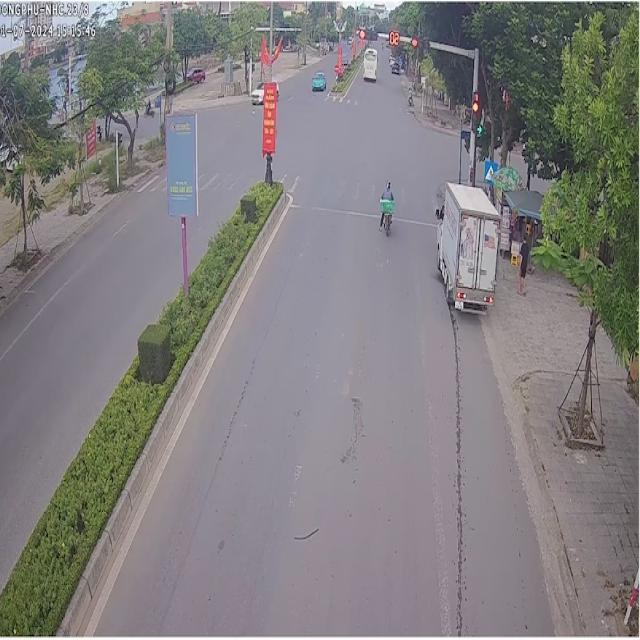car: (434, 180, 498, 311), (362, 46, 376, 78), (249, 79, 262, 103), (310, 70, 324, 89)
motobike: (378, 180, 393, 232)
red_light: (471, 88, 479, 131), (410, 34, 430, 49), (359, 27, 377, 40), (387, 30, 399, 45)
stop_line: (290, 203, 377, 216), (392, 215, 434, 225)
